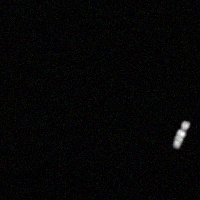chromosome: (172, 119, 189, 148)
